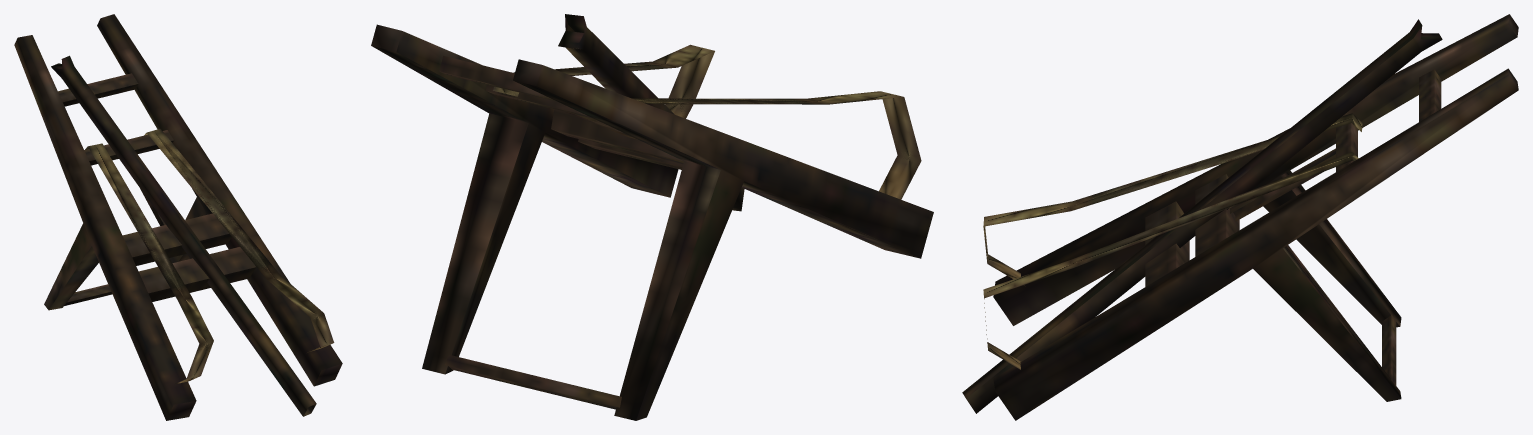
File: b_general_obj_10_1_01.fbx
The picture shows the model from 3 angles, left to right: view 1: azimuth 30°, elevation 25°; view 2: azimuth 150°, elevation 25°; view 3: azimuth 270°, elevation 25°; orthographic projection. The views are drawn at different scales.
Visible parts, largest first — view 1: B_general_obj_06; view 2: B_general_obj_06; view 3: B_general_obj_06.
Boxes of the visible parts, x1,y1,x2,y2 form: B_general_obj_06: (14,14,342,420); B_general_obj_06: (371,14,933,420); B_general_obj_06: (962,14,1518,420).
Bounding box in the file's own units: 0.7827 × 1.12 × 1.67.
